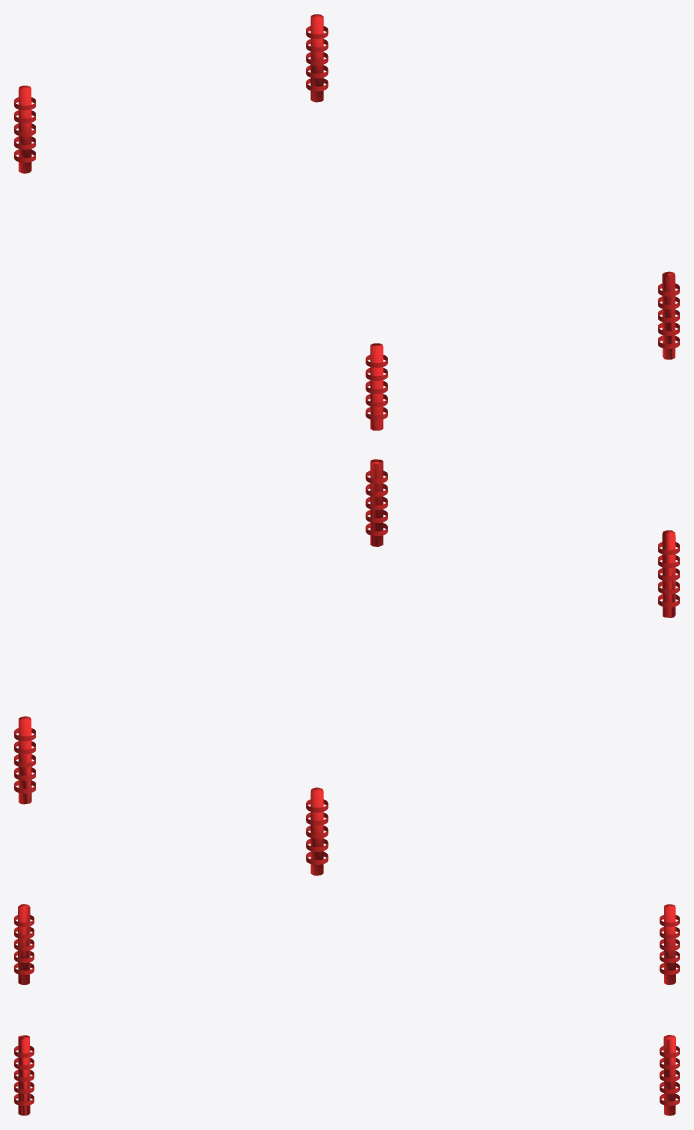
The model's file is adaptive_coilovers.glb.
3 views of the same model, one above another, from view 1: azimuth 30°, elevation 25°; view 2: azimuth 150°, elevation 25°; view 3: azimuth 270°, elevation 25° (orthographic). The views are drawn at different scales.
Parts seen in each view (by area): view 1: GEO_Adaptive_Coilovers; view 2: GEO_Adaptive_Coilovers; view 3: GEO_Adaptive_Coilovers.
Boxes of the visible parts, x1,y1,x2,y2 form: GEO_Adaptive_Coilovers: [14, 14, 679, 430]; GEO_Adaptive_Coilovers: [14, 459, 679, 875]; GEO_Adaptive_Coilovers: [14, 904, 679, 1115].
Bounding box in the file's own units: 1.49 × 0.3787 × 3.01.
